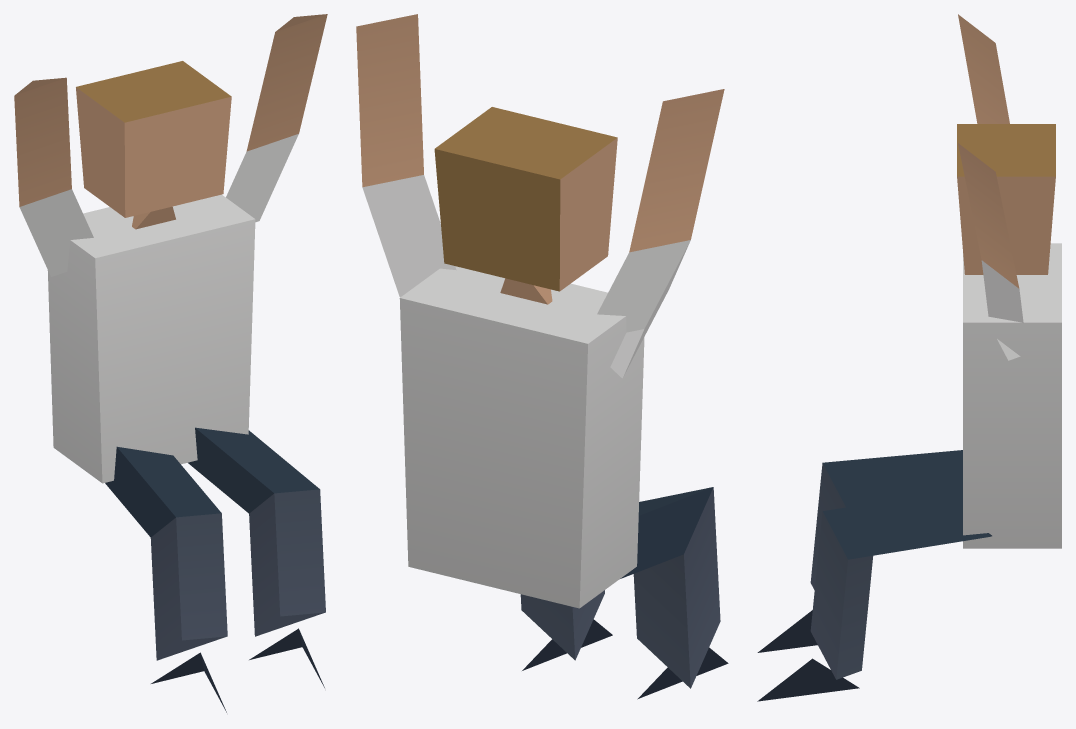
Rendered from fan-05.glb.
The picture shows the model from 3 angles, left to right: view 1: azimuth 30°, elevation 25°; view 2: azimuth 150°, elevation 25°; view 3: azimuth 270°, elevation 25°; orthographic projection. The views are drawn at different scales.
Visible parts, largest first — view 1: fan-05; view 2: fan-05; view 3: fan-05.
Part boxes in pixels (bbox=[...]): fan-05: bbox=[14, 14, 327, 712]; fan-05: bbox=[356, 14, 728, 699]; fan-05: bbox=[757, 14, 1061, 701].
Size of the model in its own units: 0.8975 by 1.65 by 0.77.
